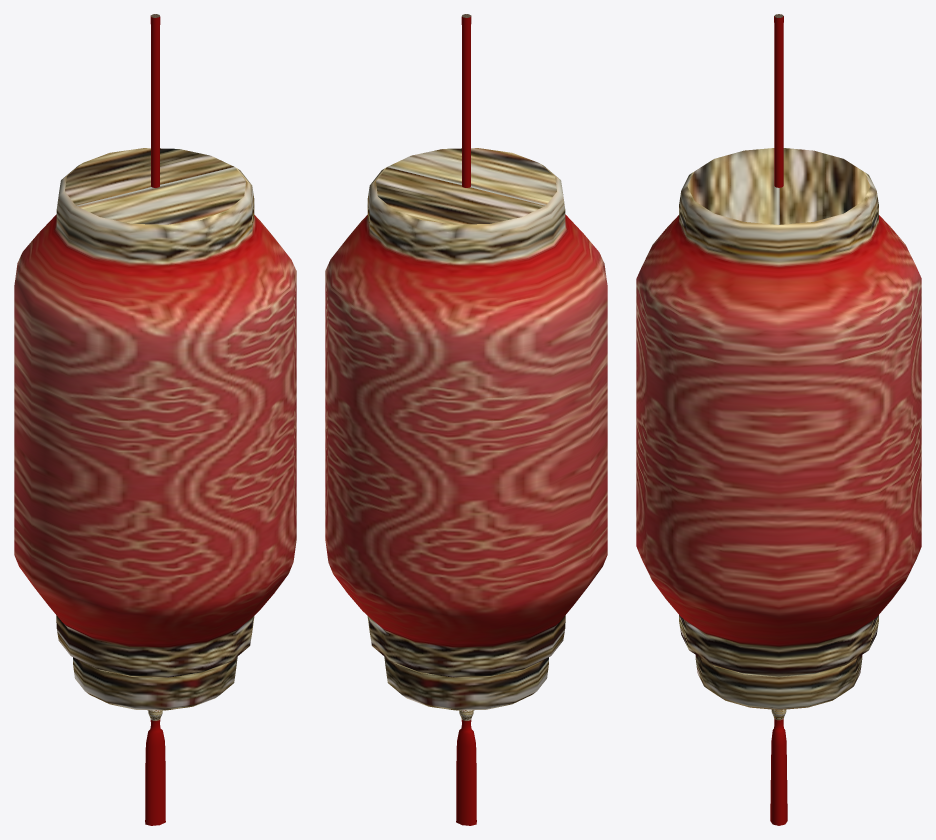
The model's file is Lantern2.fbx.
3 renders of one model, left to right at view 1: azimuth 30°, elevation 25°; view 2: azimuth 150°, elevation 25°; view 3: azimuth 270°, elevation 25°, orthographic.
Parts seen in each view (by area): view 1: Lantern2; view 2: Lantern2; view 3: Lantern2.
Boxes of the visible parts, x1,y1,x2,y2 form: Lantern2: [14, 14, 296, 825]; Lantern2: [325, 14, 607, 825]; Lantern2: [636, 14, 921, 825].
Size of the model in its own units: 0.1854 by 0.5767 by 0.1854.
Materials: 3 (2 with a texture image).
